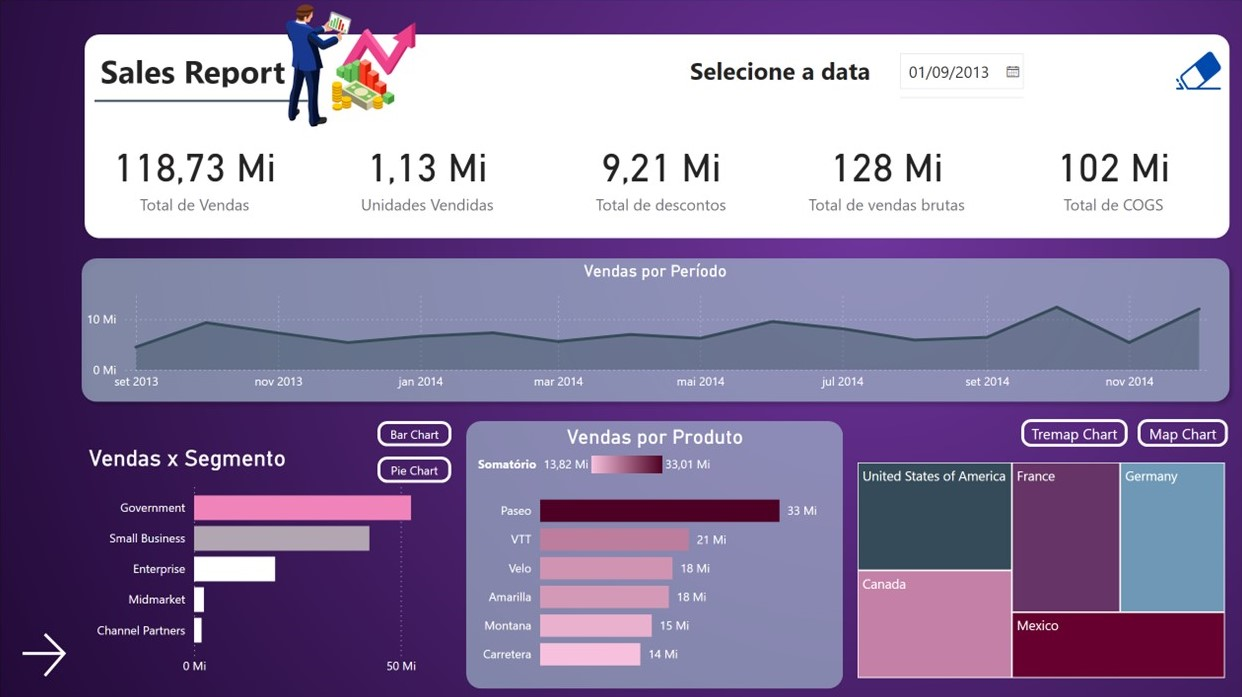

The dashboard page shown, as its layout file describes it:
{"tool":"powerbi","page":{"name":"Principal","canvas":[1280,720],"ordinal":1},"visuals":[{"type":"image","box":[0,0,1280,720],"z":0},{"type":"shape","box":[84.4,258.9,1182.2,163.3],"z":0,"group":"g1"},{"type":"shape","box":[482.9,433.4,382.2,271.3],"z":0,"group":"g2"},{"type":"shape","box":[95.8,41.1,1161.3,206.6],"z":1000},{"type":"areaChart","title":"Vendas por Período","fields":{"Category":["financials.Date.Variation.Hierarquia de datas.Trimestre","financials.Date.Variation.Hierarquia de datas.Mês"],"Y":["Sum(financials. Sales)"]},"box":[93.3,271.1,1163.3,140],"z":1000,"group":"g1"},{"type":"clusteredBarChart","title":"Vendas por Produto","fields":{"Y":["Sum(financials. Sales)"],"Category":["financials.Product"]},"box":[490,437.8,368.9,261.1],"z":1000,"group":"g2"},{"type":"shape","box":[105.6,92.3,216.7,32.8],"z":3000},{"type":"clusteredBarChart","title":"Vendas x Segmento","fields":{"Category":["financials.Segment"],"Y":["Sum(financials. Sales)"]},"box":[95.3,456.6,383.4,242.7],"z":4000},{"type":"slicer","fields":{"Values":["financials.Date"]},"box":[909.9,50.5,272.2,55.6],"z":5000},{"type":"actionButton","title":"Botão - bar","box":[393.4,432.9,75.1,25.6],"z":6000},{"type":"textbox","box":[704.6,56.2,199.6,45.6],"z":8000},{"type":"actionButton","title":"Botão -pie","box":[393.2,469.1,74.8,26.6],"z":9000},{"type":"actionButton","title":"Botão - map","box":[1164.3,430.7,91.6,28.1],"z":10000},{"type":"card","fields":{"Values":["Sum(financials.Units Sold)"]},"box":[338.3,130.3,211,105.5],"z":11000},{"type":"treemap","title":"Sales x Country","fields":{"Group":["financials.Country"],"Values":["Sum(financials. Sales)"]},"box":[875.5,469.9,382.3,228.3],"z":12000},{"type":"textbox","box":[107,50.9,215.2,48.5],"z":13000},{"type":"group","id":"g1","title":"Grupo 1","box":[84.4,258.9,1182.2,163.3],"z":14000},{"type":"actionButton","box":[1196.4,54.7,59.9,51.3],"z":15000},{"type":"actionButton","title":"Botão - tremap","box":[1046.4,430.7,107.9,28.1],"z":16000},{"type":"card","fields":{"Values":["Sum(financials.Gross Sales)"]},"box":[804.4,130.3,211,105.5],"z":17000},{"type":"image","title":"clean","box":[1196.4,50.5,59.9,55.6],"z":18000},{"type":"actionButton","title":"Botão - Next","box":[26.3,642,58,56.2],"z":19000},{"type":"card","fields":{"Values":["Sum(financials.Discounts)"]},"box":[574.9,130.3,211,105.5],"z":20000},{"type":"group","id":"g2","title":"Grupo 2","box":[482.9,433.4,382.2,271.3],"z":21000},{"type":"card","fields":{"Values":["Sum(financials.COGS)"]},"box":[1033.9,130.3,211,105.5],"z":22000},{"type":"card","fields":{"Values":["Sum(financials. Sales)"]},"box":[101.7,130.3,211,105.5],"z":23000},{"type":"image","box":[265.6,0,236.1,144.6],"z":24000}]}

Visuals, with their boxes in screenshot pixels (x1, y1, x2, y2), scaled from the page's 1280x720 canvas onto the 1242x697 screenshot:
image: BBox(0, 0, 1241, 696)
shape: BBox(82, 251, 1229, 409)
shape: BBox(469, 420, 839, 682)
shape: BBox(93, 40, 1220, 240)
"Vendas por Período" areaChart: BBox(91, 262, 1219, 398)
"Vendas por Produto" clusteredBarChart: BBox(475, 424, 833, 677)
shape: BBox(102, 89, 313, 121)
"Vendas x Segmento" clusteredBarChart: BBox(92, 442, 464, 677)
slicer - financials.Date: BBox(883, 49, 1147, 103)
"Botão - bar" actionButton: BBox(382, 419, 455, 444)
textbox: BBox(684, 54, 877, 99)
"Botão -pie" actionButton: BBox(382, 454, 454, 480)
"Botão - map" actionButton: BBox(1130, 417, 1219, 444)
card - Sum(financials.Units Sold): BBox(328, 126, 533, 228)
"Sales x Country" treemap: BBox(850, 455, 1220, 676)
textbox: BBox(104, 49, 313, 96)
"Grupo 1" group: BBox(82, 251, 1229, 409)
actionButton: BBox(1161, 53, 1219, 103)
"Botão - tremap" actionButton: BBox(1015, 417, 1120, 444)
card - Sum(financials.Gross Sales): BBox(781, 126, 985, 228)
"clean" image: BBox(1161, 49, 1219, 103)
"Botão - Next" actionButton: BBox(26, 621, 82, 676)
card - Sum(financials.Discounts): BBox(558, 126, 763, 228)
"Grupo 2" group: BBox(469, 420, 839, 682)
card - Sum(financials.COGS): BBox(1003, 126, 1208, 228)
card - Sum(financials. Sales): BBox(99, 126, 303, 228)
image: BBox(258, 0, 487, 140)
